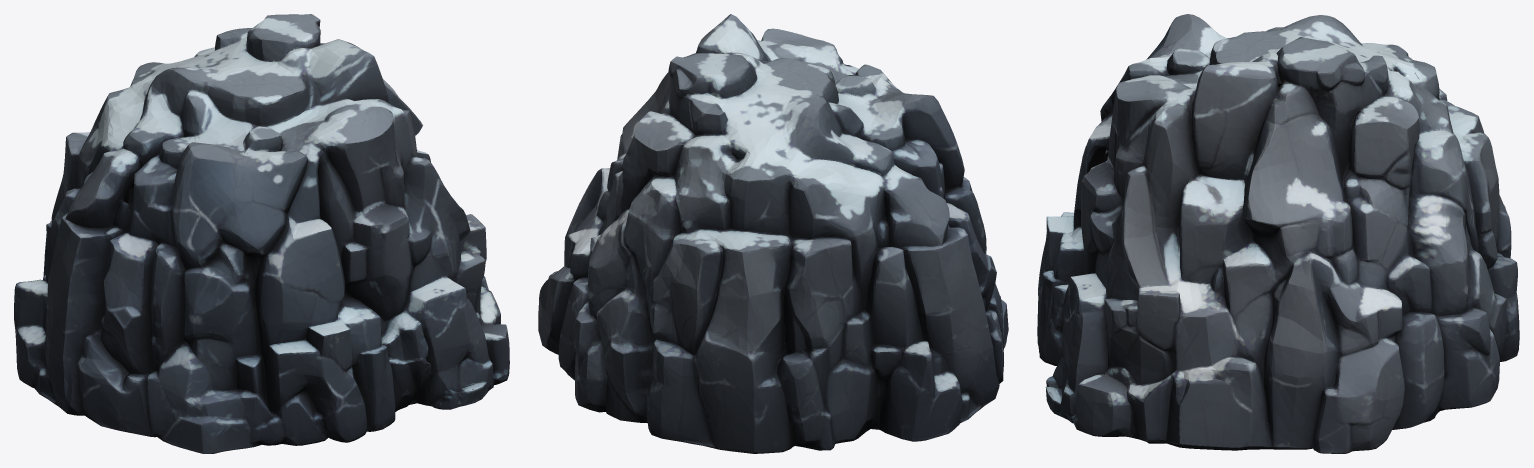
File: roca_grande.glb
3 views of the same model, side by side, from view 1: azimuth 30°, elevation 25°; view 2: azimuth 150°, elevation 25°; view 3: azimuth 270°, elevation 25° (orthographic). The views are drawn at different scales.
Parts seen in each view (by area): view 1: world; view 2: world; view 3: world.
Boxes of the visible parts, bbox=[...] form: world: bbox=[14, 14, 509, 453]; world: bbox=[538, 14, 1008, 453]; world: bbox=[1037, 14, 1519, 453].
Bounding box in the file's own units: 0.9946 × 0.7173 × 0.9479.
Materials: 1 (1 with a texture image).
